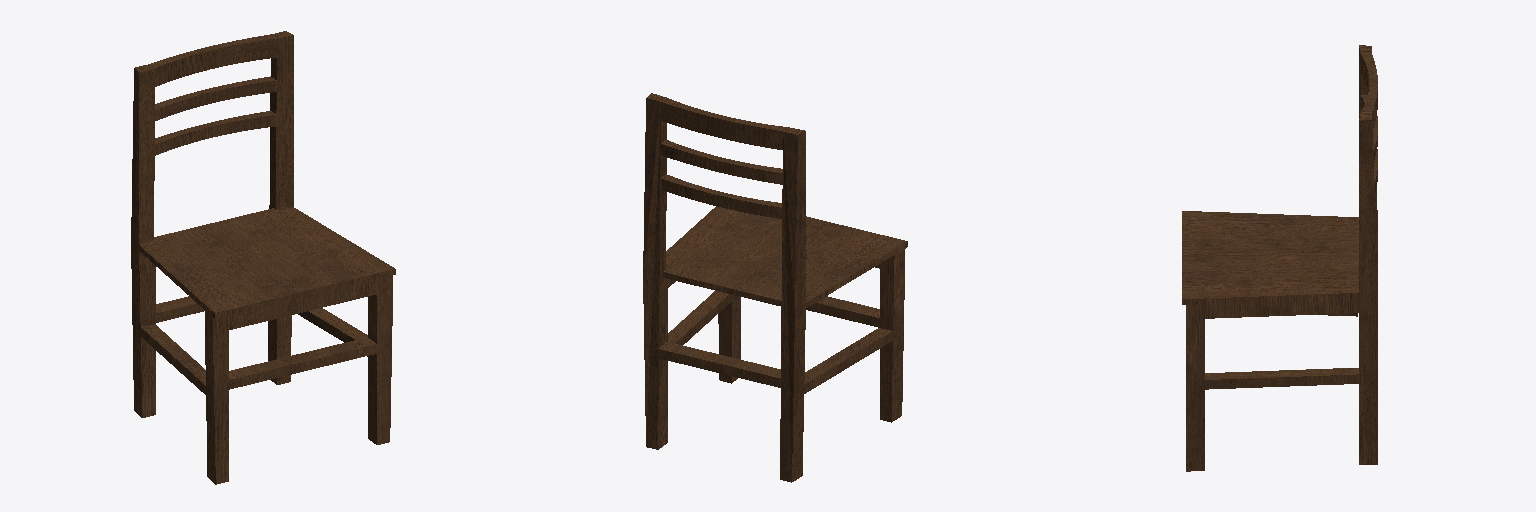
3 renders of one model, left to right at view 1: azimuth 30°, elevation 25°; view 2: azimuth 150°, elevation 25°; view 3: azimuth 270°, elevation 25°, orthographic.
Size of the model in its own units: 0.495 by 0.905 by 0.4658.
1 materials, 1 textured.